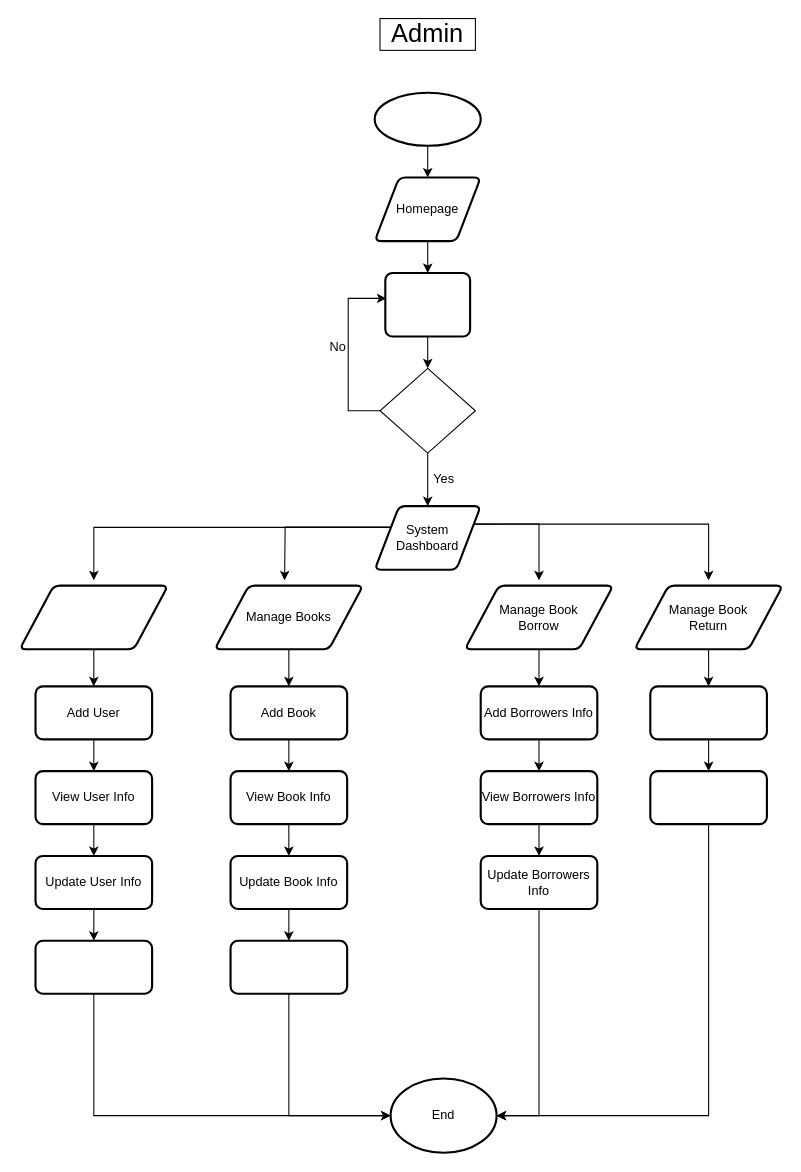
The diagram is 801 pixels wide and 1172 high, and some of its shapes have lost their labels. Each missing label, with the centre of its shape:
Admin Log In: the point at 427,304
Delete Book: the point at 288,966
Delete User: the point at 93,966
Manage Users Students/Faculty: the point at 93,617
Start: the point at 427,118
Update Book Return: the point at 708,797
User Password correct?: the point at 427,410
View Book Returns: the point at 708,712
